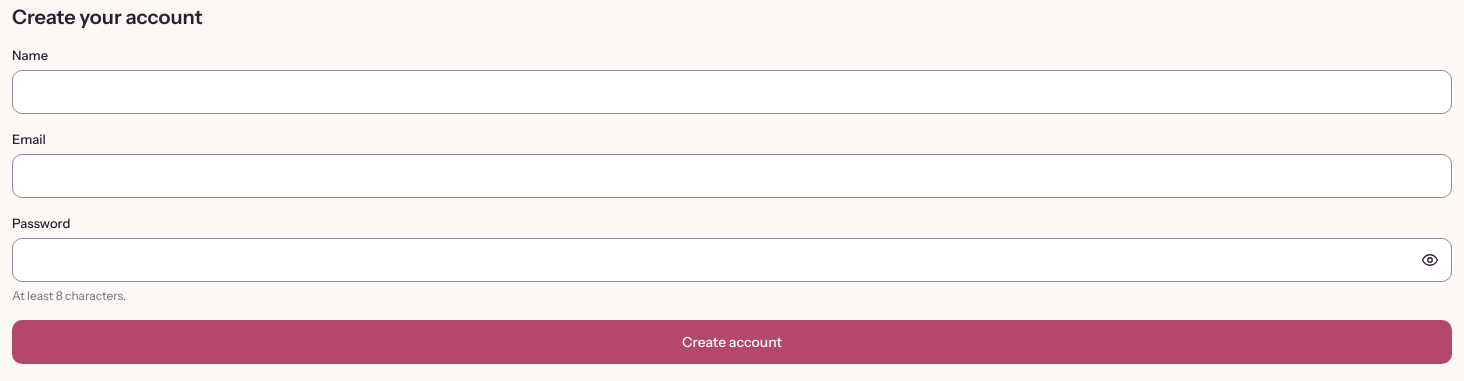
Test: disables the button while the request runs
In the field labelled "Name": (732, 92) [12,70,1452,114], type "Ana"
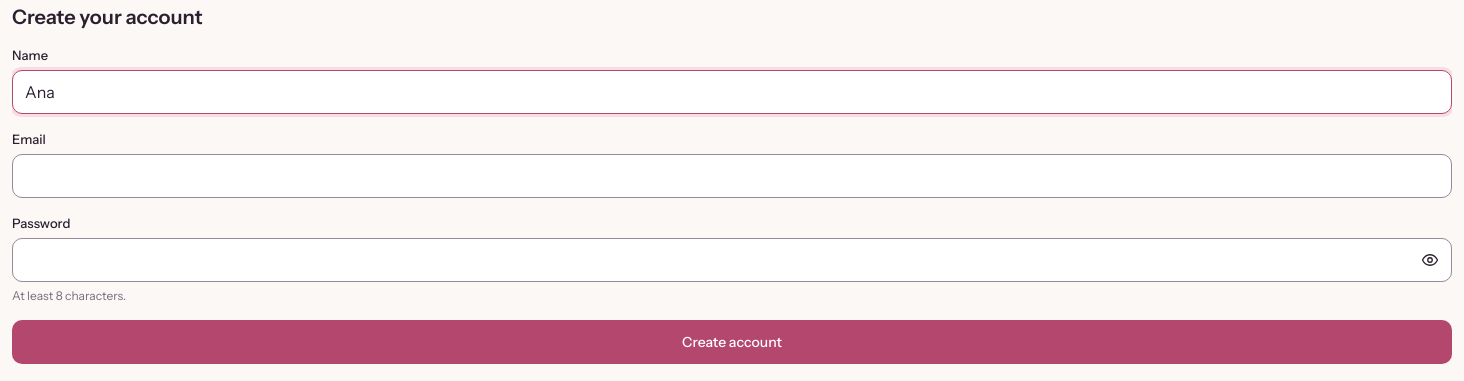
In the field labelled "Email": (732, 176) [12,154,1452,198], type "ana@example.com"
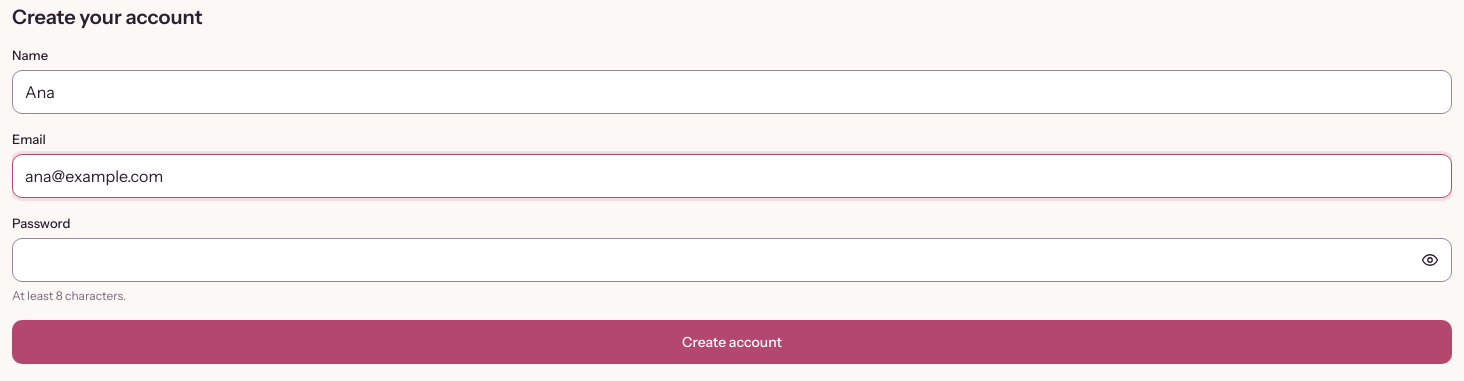
In the password field labelled "Password": (732, 260) [12,238,1452,282], type "pas-de-deux"
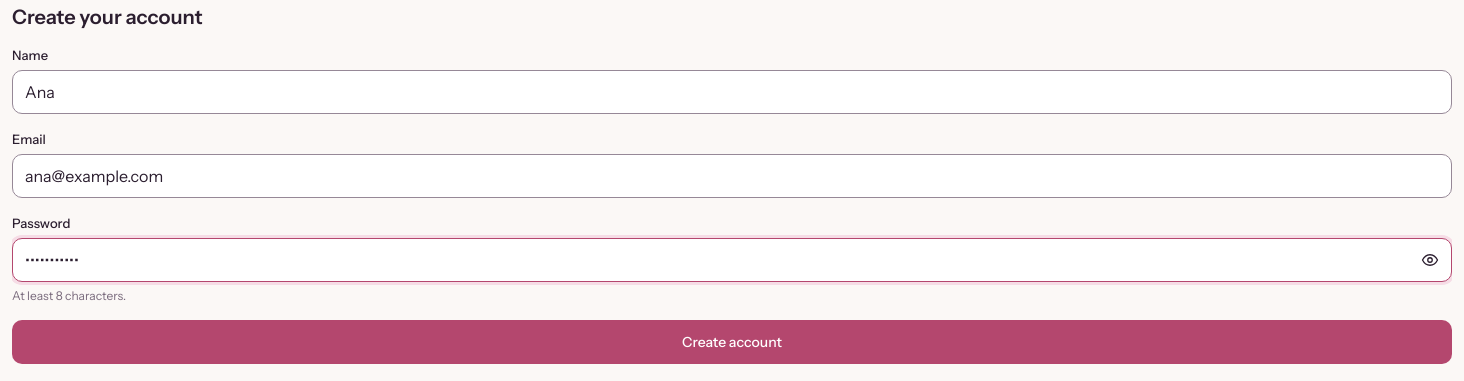
Click the button "Create account": (732, 342) [12,320,1452,364]
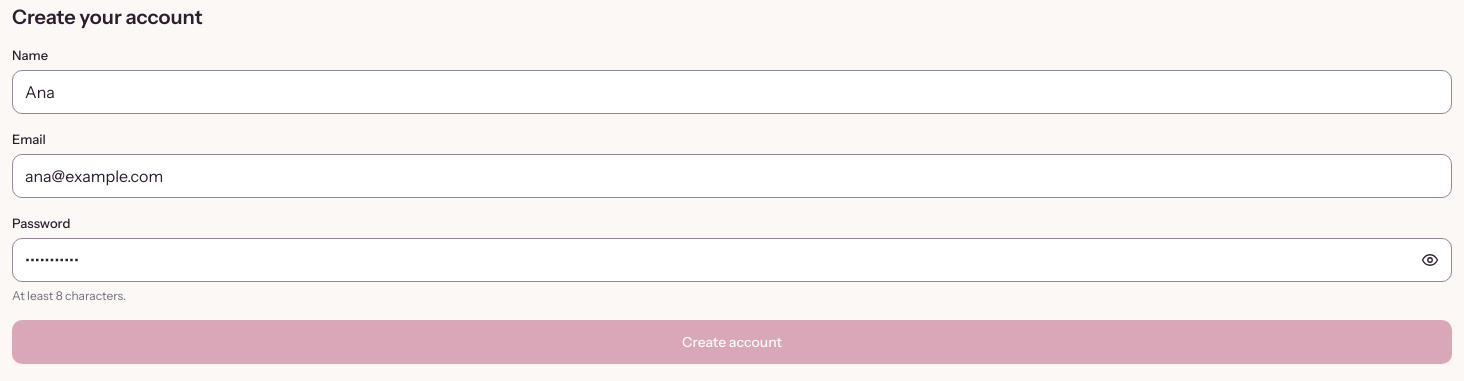
Result: the button "Create account" is disabled at [12,320,1452,364]
